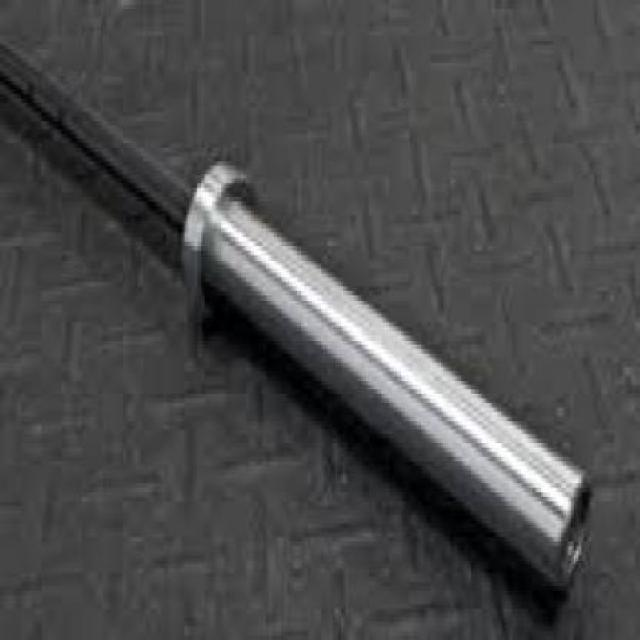Barbell: (532, 424, 612, 600)
